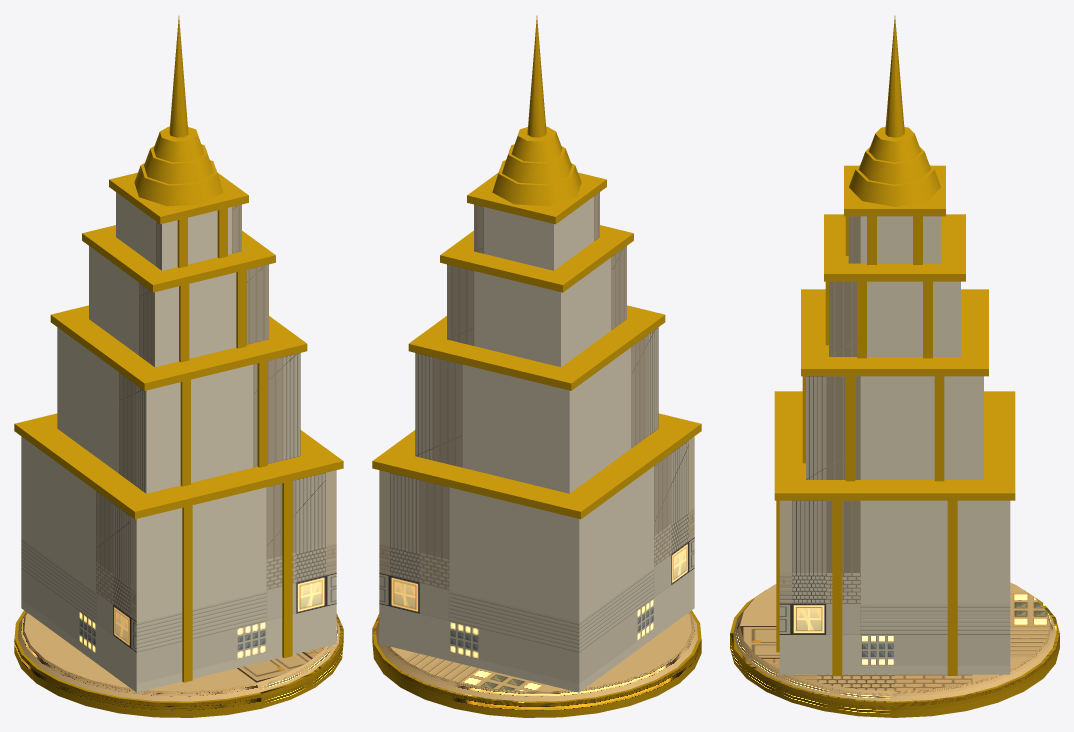
Rendered from tier-13-skyscraper.glb.
3 views of the same model, side by side, from view 1: azimuth 30°, elevation 25°; view 2: azimuth 150°, elevation 25°; view 3: azimuth 270°, elevation 25° (orthographic).
Parts seen in each view (by area): view 1: toon, gloss; view 2: toon, gloss; view 3: toon, gloss.
Part boxes in pixels (x1,y1,x2,y2): toon: [14, 192, 343, 717]; gloss: [14, 16, 343, 682]; toon: [372, 192, 701, 717]; gloss: [372, 16, 701, 519]; toon: [730, 216, 1059, 717]; gloss: [774, 16, 1015, 675].
Size of the model in its own units: 1 by 2.12 by 1.
2 materials, 1 textured.
